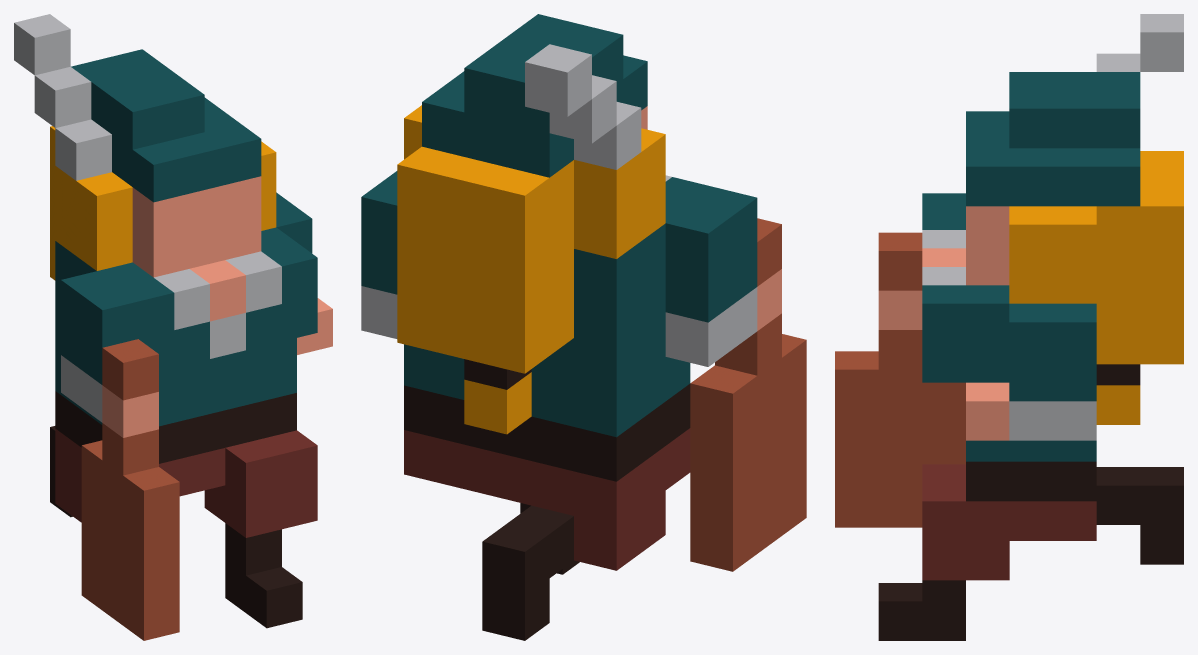
The model's file is bard_walk_2.obj.
3 renders of one model, left to right at view 1: azimuth 30°, elevation 25°; view 2: azimuth 150°, elevation 25°; view 3: azimuth 270°, elevation 25°, orthographic. The views are drawn at different scales.
Size of the model in its own units: 0.7 by 1.4 by 0.8.
1 material, 1 textured.
